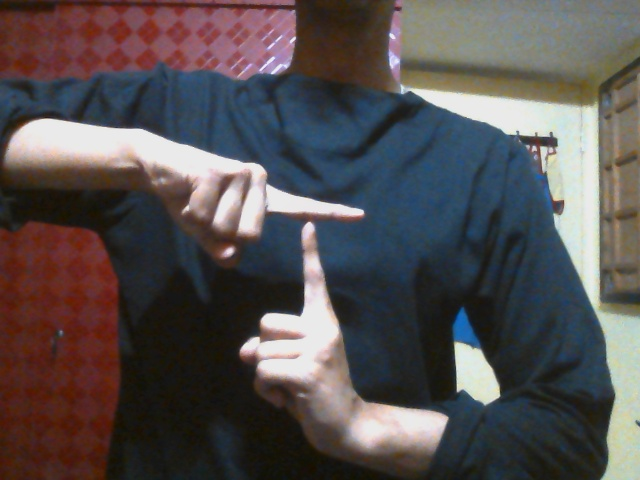T: (170, 154, 375, 431)
